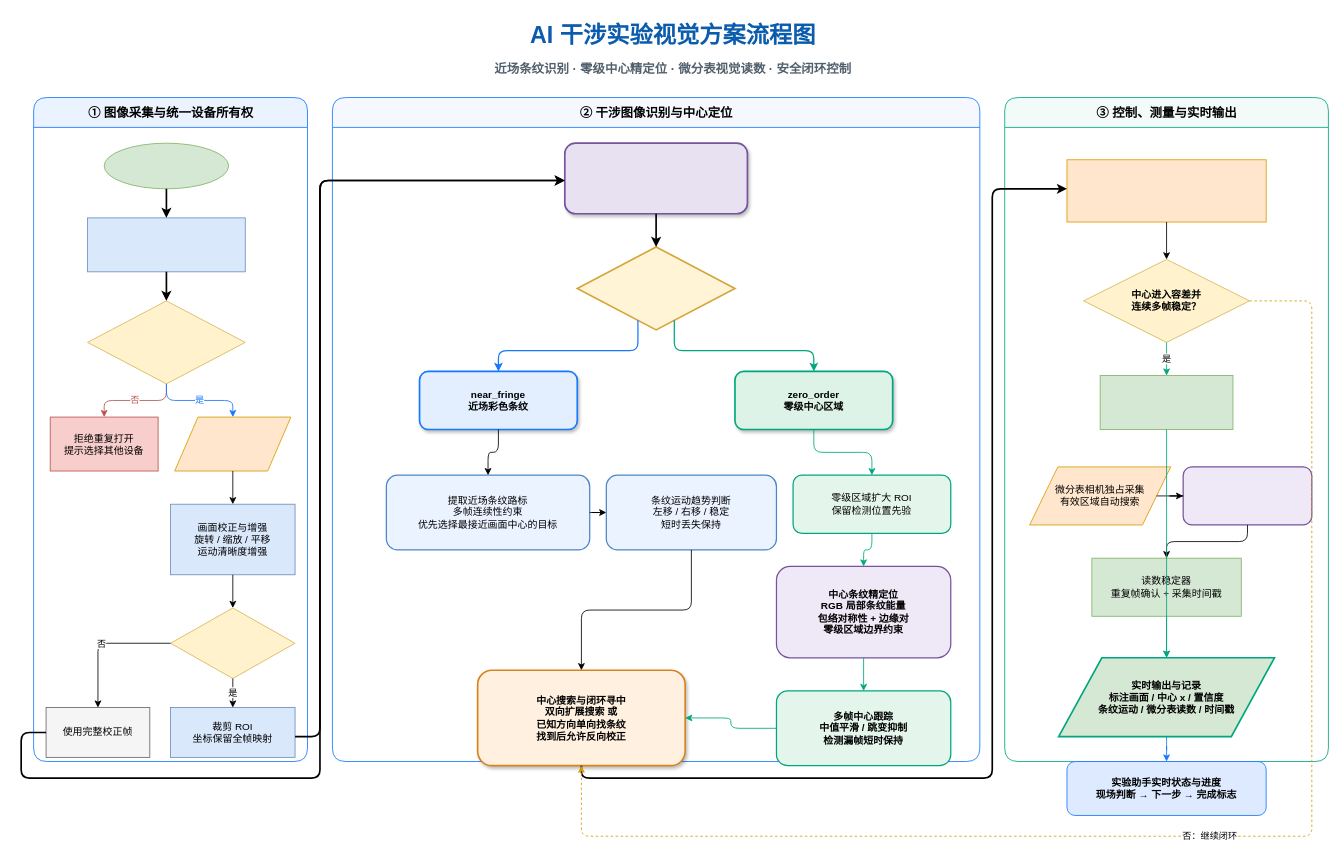
This 1343x857 diagram has some shape labels left out. Here are the shapes that lost their labels. From the top down, the centre of each, then its label:
At pixel 166 165: "启动视觉模块".
At pixel 656 179: "条纹目标检测 YOLO 实时推理 置信度筛选 + IoU + NMS".
At pixel 1166 190: "安全电机命令队列 调速 / 正转 / 反转 / 停车".
At pixel 166 244: "双相机注册表 申请独占设备租约".
At pixel 655 288: "识别结果？".
At pixel 166 342: "目标相机可用且 未被其他任务占用？".
At pixel 1166 402: "可靠停车 保存中心位置".
At pixel 232 443: "干涉相机采集 1280 × 1024 彩色帧".
At pixel 1247 495: "微分表 OCR 识别 数字识别 + 小数点归一化".
At pixel 232 643: "人工 ROI 已设置？".
